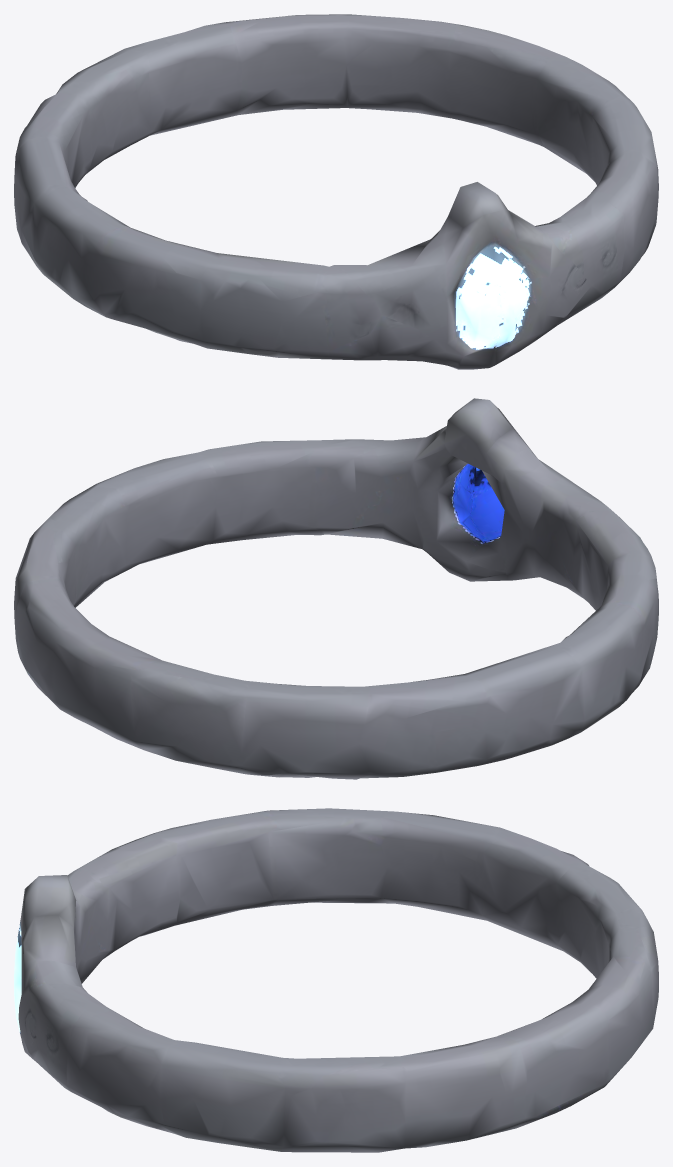
File: hat_circletSilver-Dq3lZjYu.glb
3 renders of one model, top to bottom at view 1: azimuth 30°, elevation 25°; view 2: azimuth 150°, elevation 25°; view 3: azimuth 270°, elevation 25°, orthographic.
Visible parts, largest first — view 1: tripo_node_a1cdcdba-6437-48ab-9e7c-187c030fea85; view 2: tripo_node_a1cdcdba-6437-48ab-9e7c-187c030fea85; view 3: tripo_node_a1cdcdba-6437-48ab-9e7c-187c030fea85.
Boxes of the visible parts, bbox=[...] form: tripo_node_a1cdcdba-6437-48ab-9e7c-187c030fea85: bbox=[14, 14, 658, 369]; tripo_node_a1cdcdba-6437-48ab-9e7c-187c030fea85: bbox=[14, 398, 658, 779]; tripo_node_a1cdcdba-6437-48ab-9e7c-187c030fea85: bbox=[14, 808, 658, 1152].
Size of the model in its own units: 1 by 0.3001 by 0.9976.
1 material, 1 textured.
